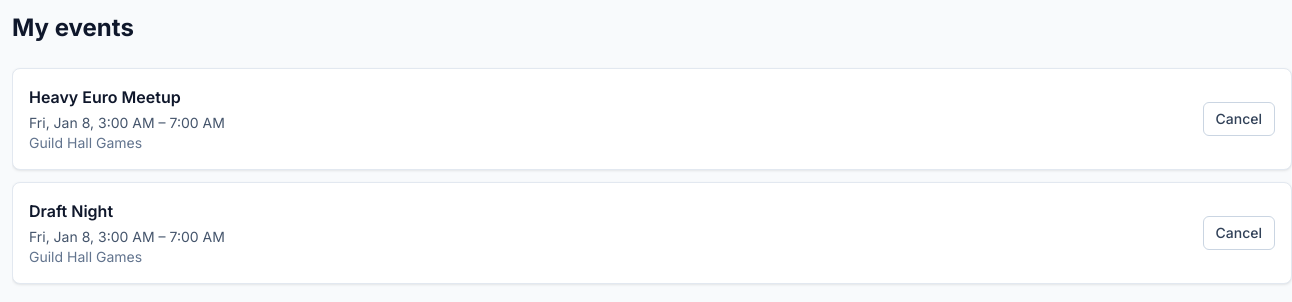
MyEventsList › removes an event from the list after inline cancel
This screenshot has width=1292, height=302.
expect the link "Heavy Euro Meetup" is shown: met, box [29,87,181,107]
Click the button "Cancel" in the row of "Heavy Euro Meetup". click: click(1239, 119)
box: [1202,102,1275,136]
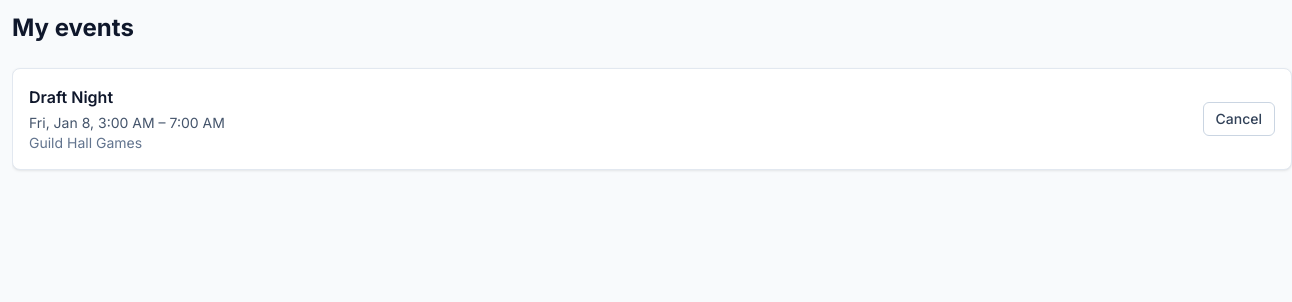
expect the link "Draft Night" is shown: met, box [29,87,113,107]
expect the link "Heavy Euro Meetup" is gone: met
